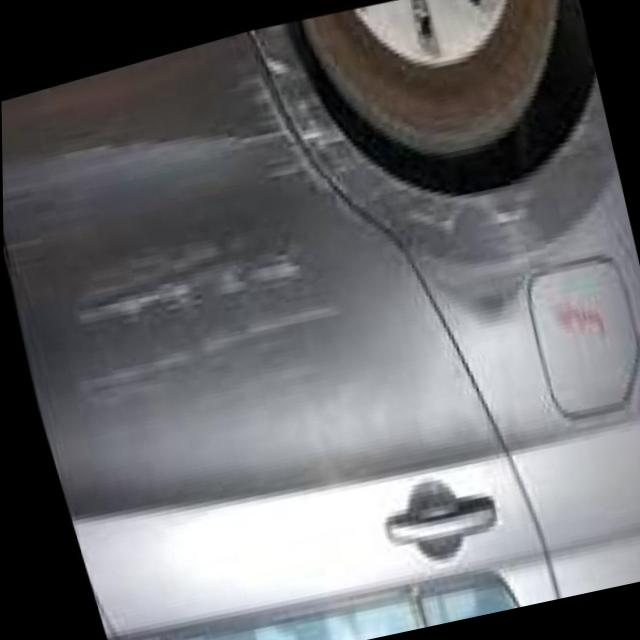Scratch: (256, 0, 548, 318), (29, 199, 368, 454)
